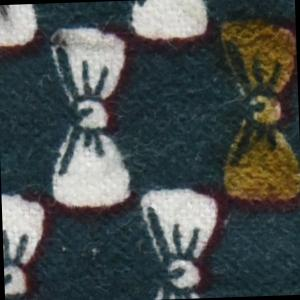Oil Stain: (214, 11, 300, 218)
